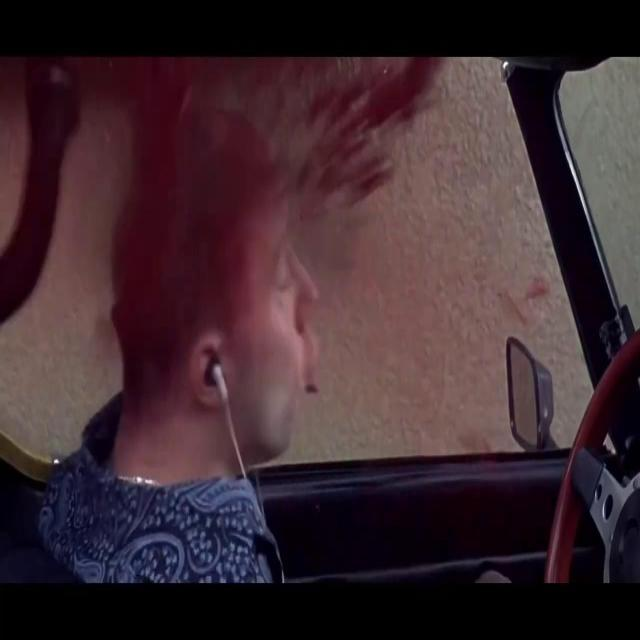flood: (124, 52, 444, 386)
